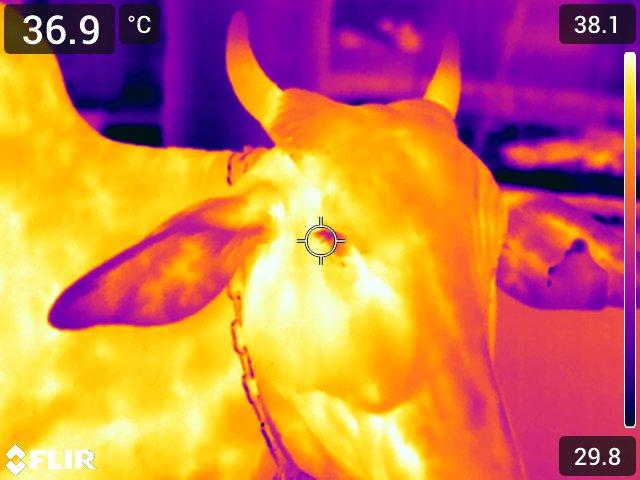ear: (47, 197, 267, 329), (503, 197, 626, 311)
eyes: (304, 214, 360, 265)
